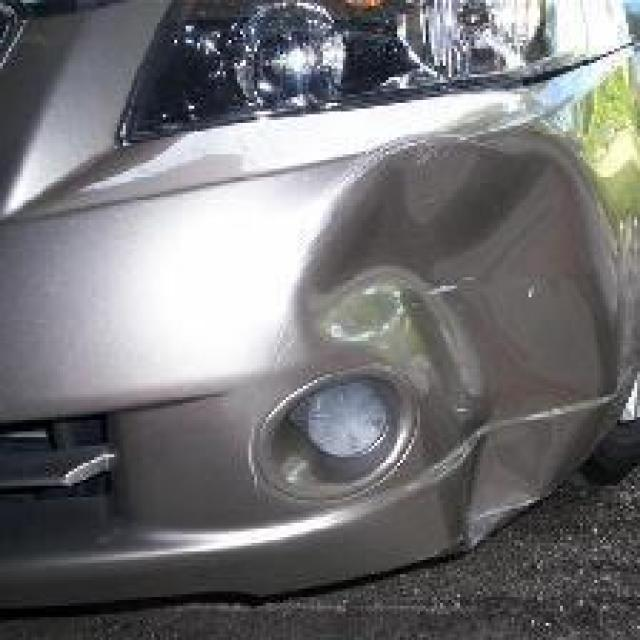damaged: (294, 126, 626, 554)
